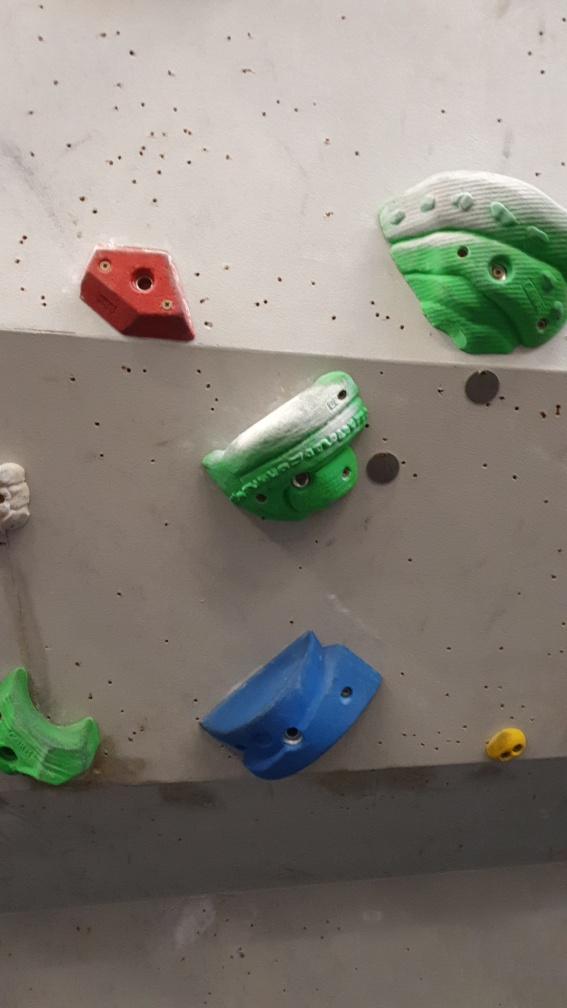Crimp: (78, 238, 201, 350)
Hand Start: (460, 364, 504, 412), (366, 449, 403, 489)
Jug: (378, 164, 567, 356), (201, 369, 372, 524), (1, 661, 102, 802)
Pinch: (200, 627, 384, 783)
